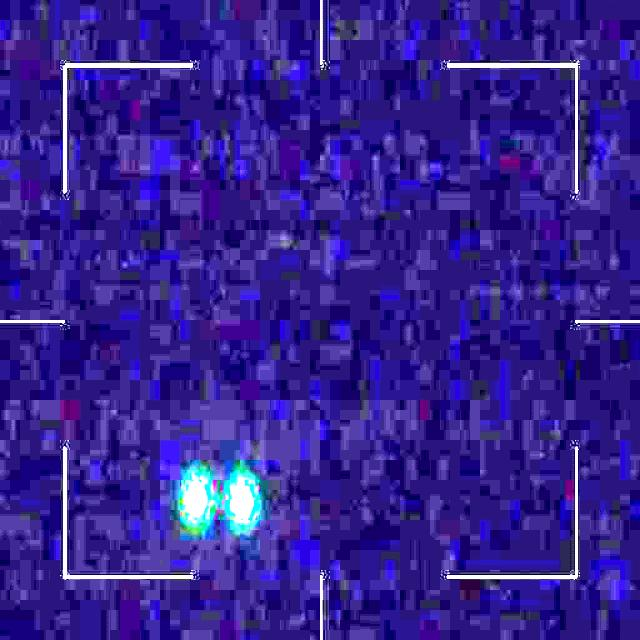bird: (182, 474, 255, 524)
